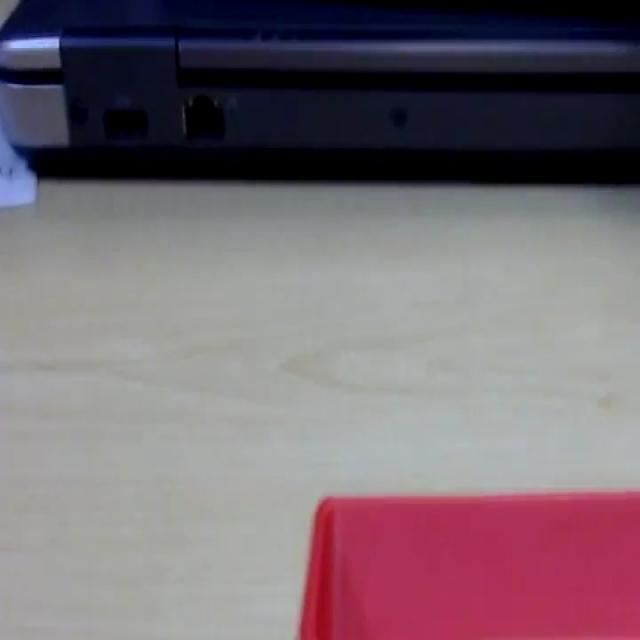red_block: (298, 488, 638, 637)
